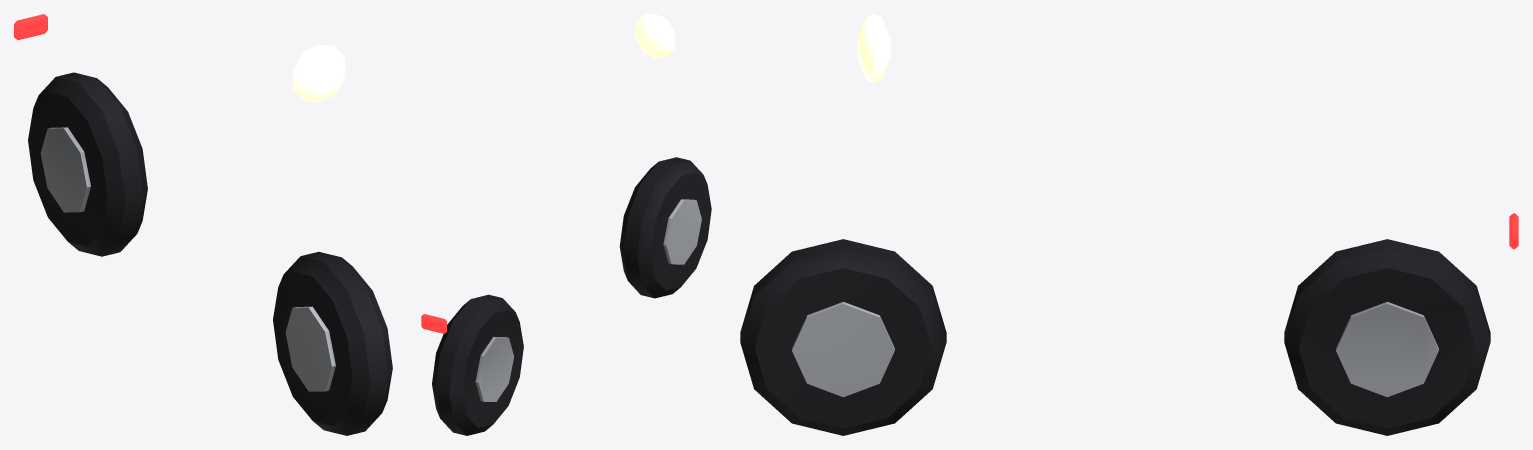
File: veh_moped_lod1.glb
3 renders of one model, left to right at view 1: azimuth 30°, elevation 25°; view 2: azimuth 150°, elevation 25°; view 3: azimuth 270°, elevation 25°, orthographic. The views are drawn at different scales.
Parts seen in each view (by area): view 1: wheel_F, wheel_R, glow; view 2: wheel_F, wheel_R, glow; view 3: wheel_R, wheel_F, glow.
Part boxes in pixels (x1,y1,x2,y2): wheel_F: (273, 251, 392, 435); wheel_R: (28, 72, 147, 256); glow: (14, 14, 345, 102); wheel_F: (619, 157, 711, 298); wheel_R: (432, 294, 523, 435); glow: (421, 14, 675, 333); wheel_R: (1284, 239, 1490, 435); wheel_F: (740, 239, 946, 435); glow: (857, 14, 1518, 249).
Size of what is drawn, in the model's own units: 0.1427 by 0.975 by 1.66.
